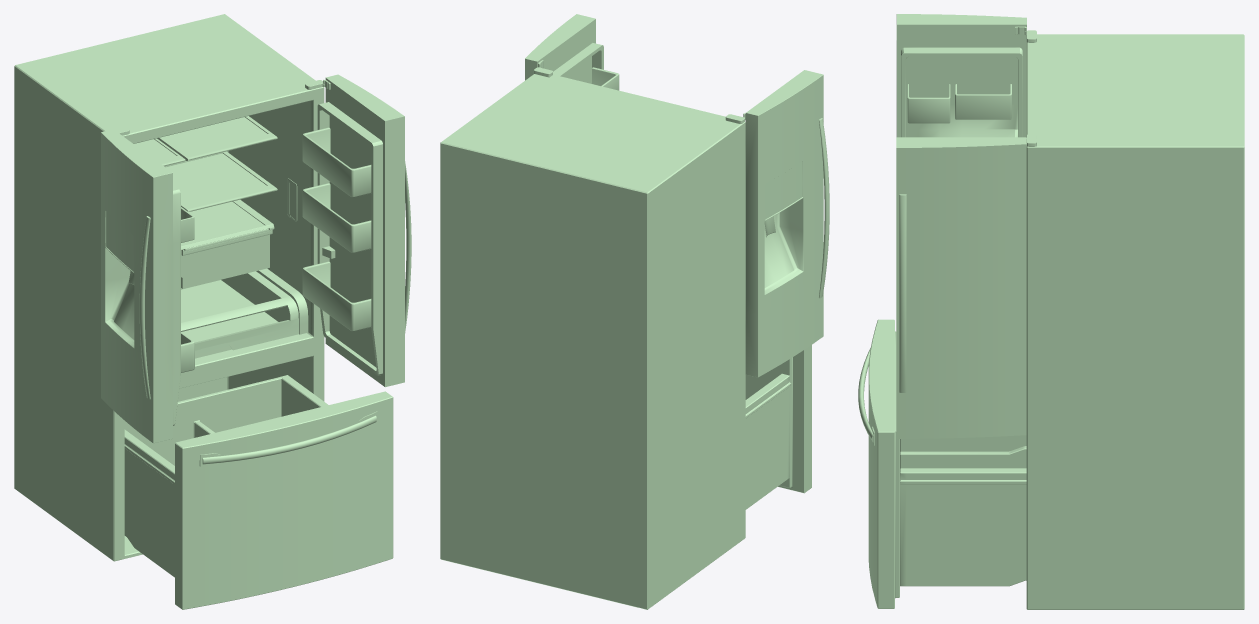
The model's file is samsung-fridge.glb.
3 renders of one model, left to right at view 1: azimuth 30°, elevation 25°; view 2: azimuth 150°, elevation 25°; view 3: azimuth 270°, elevation 25°, orthographic. The views are drawn at different scales.
Visible parts, largest first — view 1: Att_00_high, Att_11_high, Att_12_high, Att_13_high, Att_30_high, Att_05_high, Att_02_high, Att_25_high, Att_03_high, Att_20_high, Att_06_high, Att_21_high (+5 smaller); view 2: Att_00_high, Att_12_high, Att_11_high, Att_13_high, Att_16_high; view 3: Att_00_high, Att_13_high, Att_11_high, Att_12_high, Att_18_high, Att_24_high, Att_23_high, Att_17_high.
Part boxes in pixels (box(x1,y1,x2,y2)): Att_00_high: box(14, 14, 324, 561); Att_11_high: box(124, 375, 393, 609); Att_12_high: box(101, 129, 180, 443); Att_13_high: box(317, 74, 404, 387); Att_30_high: box(181, 271, 298, 358); Att_05_high: box(164, 151, 277, 211); Att_02_high: box(181, 229, 272, 288); Att_25_high: box(157, 116, 277, 160); Att_03_high: box(181, 199, 274, 250); Att_20_high: box(302, 183, 371, 252); Att_06_high: box(302, 127, 371, 197); Att_21_high: box(302, 261, 371, 331); Att_00_high: box(440, 74, 745, 609); Att_12_high: box(745, 70, 823, 377); Att_11_high: box(745, 345, 811, 509); Att_13_high: box(525, 14, 603, 83); Att_16_high: box(819, 118, 829, 298); Att_00_high: box(1026, 34, 1244, 609); Att_13_high: box(896, 137, 1026, 438); Att_11_high: box(868, 319, 1026, 608); Att_12_high: box(896, 14, 1026, 137); Att_18_high: box(899, 194, 906, 392); Att_24_high: box(955, 84, 1011, 119); Att_23_high: box(907, 84, 950, 123); Att_17_high: box(858, 347, 873, 442).
Size of the model in its own units: 45.65 by 70.48 by 51.8.
